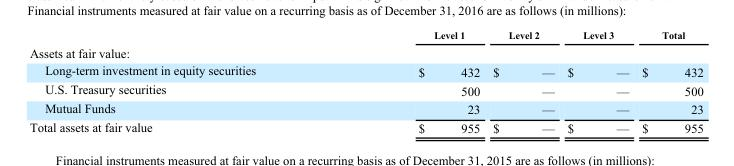table: (28, 29, 702, 135)
table column: (28, 29, 336, 135), (336, 29, 485, 135), (485, 29, 560, 135), (560, 29, 634, 135), (634, 29, 702, 135)
table column header: (28, 29, 702, 42)
table projected row header: (28, 42, 702, 61)
table row: (28, 42, 702, 61), (28, 61, 702, 80), (28, 80, 702, 99), (28, 99, 702, 118), (28, 118, 702, 135), (28, 29, 702, 42)
